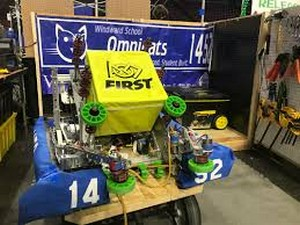cube: (80, 51, 162, 133)
